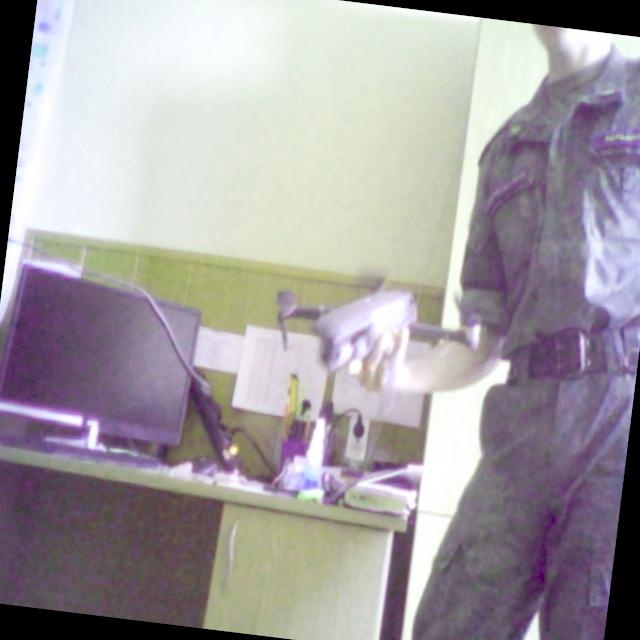drone: (258, 236, 500, 424)
